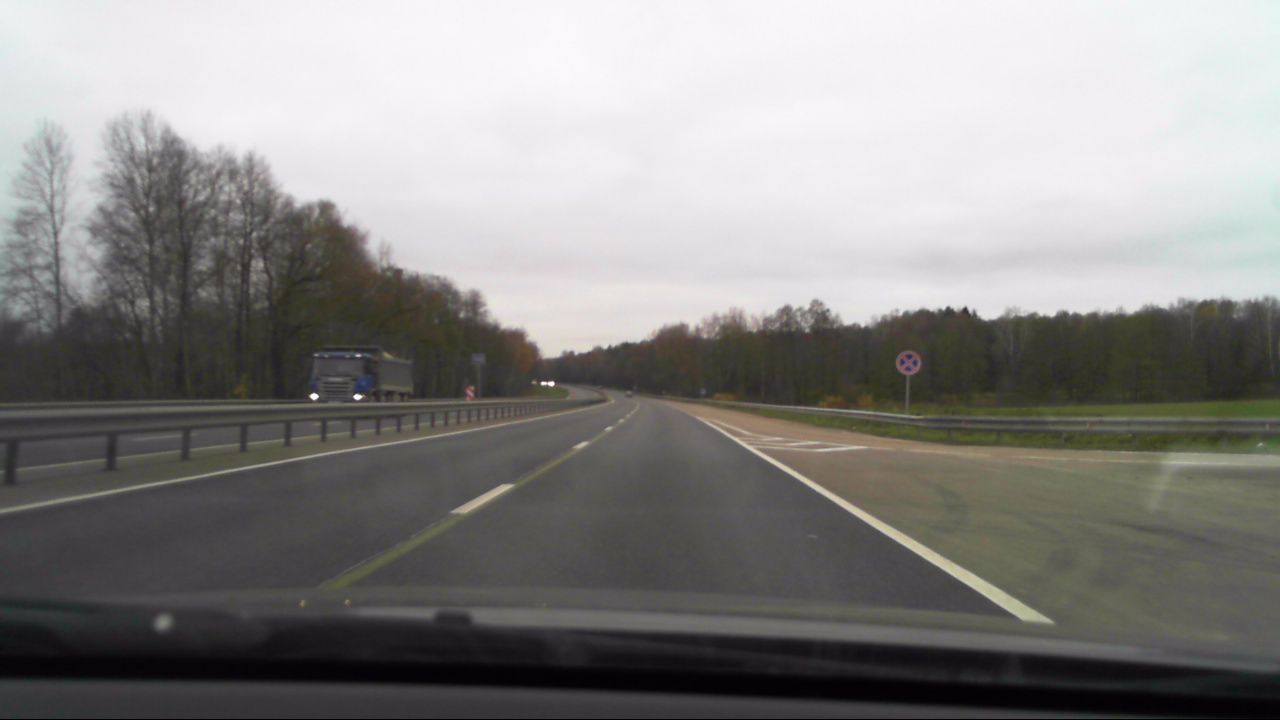No Parking: (896, 349, 924, 376)
